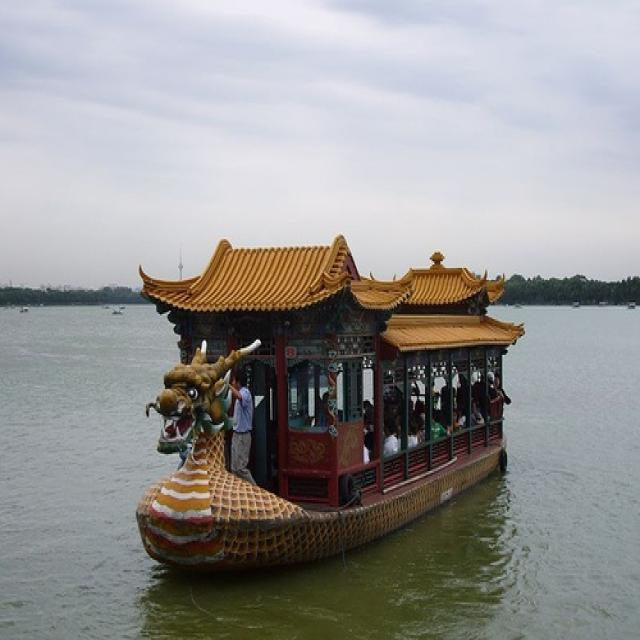boat: (132, 234, 526, 578)
